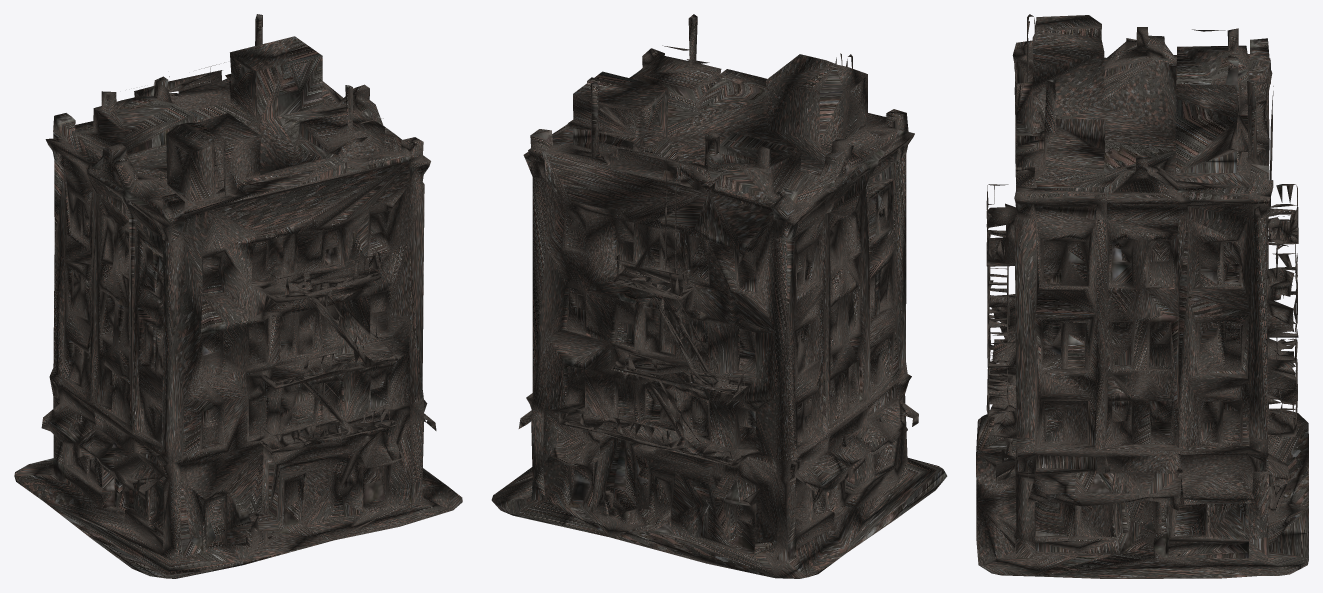
File: corner_store.glb
The picture shows the model from 3 angles, left to right: view 1: azimuth 30°, elevation 25°; view 2: azimuth 150°, elevation 25°; view 3: azimuth 270°, elevation 25°; orthographic projection. The views are drawn at different scales.
Parts seen in each view (by area): view 1: corner_store; view 2: corner_store; view 3: corner_store.
Boxes of the visible parts, x1,y1,x2,y2 form: corner_store: (14, 14, 462, 578); corner_store: (491, 14, 947, 578); corner_store: (976, 14, 1308, 578).
Size of the model in its own units: 1.51 by 1.9 by 1.27.
1 material, 1 textured.
